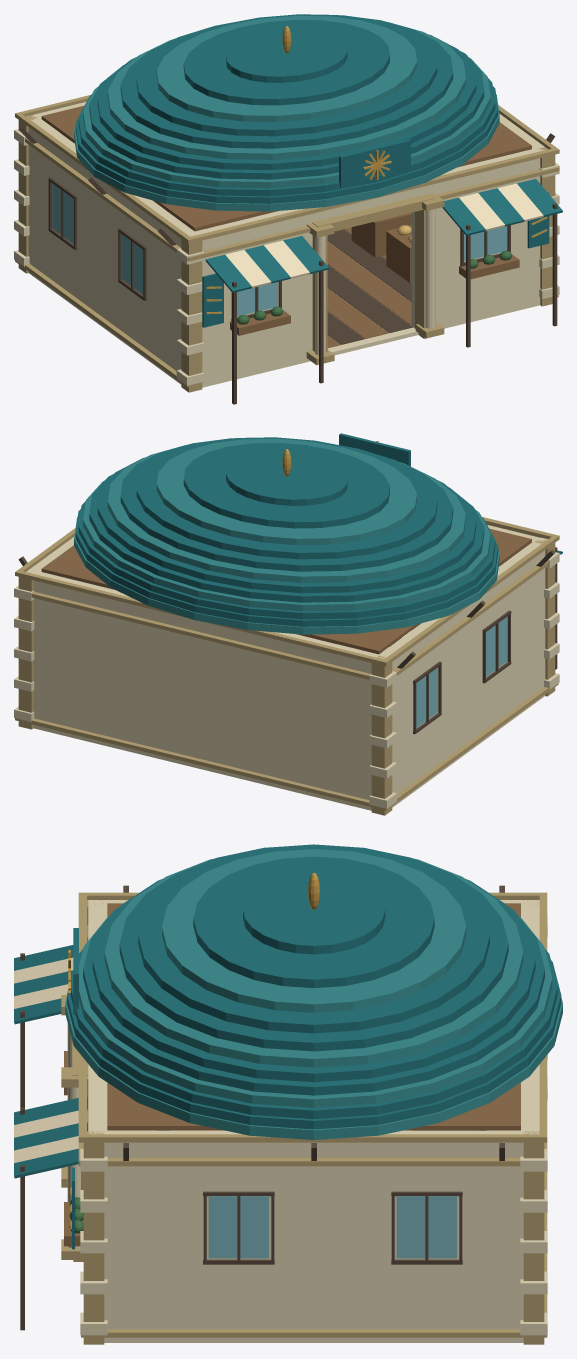
Rendered from Market.glb.
The picture shows the model from 3 angles, top to bottom: view 1: azimuth 30°, elevation 25°; view 2: azimuth 150°, elevation 25°; view 3: azimuth 270°, elevation 25°; orthographic projection. The views are drawn at different scales.
Visible parts, largest first — view 1: Market_002_Side, Market_040_FrontWing, Market_279_HarborDome, Market_003_FrontWing, Market_278_HarborDome, Market_277_HarborDome, Market_276_HarborDome, Market_275_HarborDome, Market_280_HarborDome, Market_274_HarborDome, Market_273_HarborDome, Market_272_HarborDome (+50 smaller); view 2: Market_001_Rear, Market_002_Side, Market_279_HarborDome, Market_278_HarborDome, Market_277_HarborDome, Market_276_HarborDome, Market_275_HarborDome, Market_274_HarborDome, Market_280_HarborDome, Market_273_HarborDome, Market_272_HarborDome, Market_271_HarborDome (+18 smaller); view 3: Market_039_Side, Market_279_HarborDome, Market_278_HarborDome, Market_277_HarborDome, Market_276_HarborDome, Market_275_HarborDome, Market_274_HarborDome, Market_280_HarborDome, Market_273_HarborDome, Market_272_HarborDome, Market_271_HarborDome, Market_270_HarborDome (+26 smaller).
Part boxes in pixels (x1=…): Market_002_Side: x1=29, y1=118, x2=196, y2=383; Market_040_FrontWing: x1=411, y1=149, x2=540, y2=328; Market_279_HarborDome: x1=183, y1=20, x2=389, y2=105; Market_003_FrontWing: x1=186, y1=209, x2=322, y2=387; Market_278_HarborDome: x1=156, y1=15, x2=416, y2=122; Market_277_HarborDome: x1=136, y1=14, x2=437, y2=136; Market_276_HarborDome: x1=120, y1=15, x2=453, y2=148; Market_275_HarborDome: x1=107, y1=22, x2=465, y2=159; Market_280_HarborDome: x1=226, y1=29, x2=347, y2=82; Market_274_HarborDome: x1=97, y1=34, x2=476, y2=170; Market_273_HarborDome: x1=89, y1=51, x2=484, y2=179; Market_272_HarborDome: x1=83, y1=58, x2=490, y2=188; Market_001_Rear: x1=26, y1=569, x2=386, y2=810; Market_002_Side: x1=376, y1=537, x2=547, y2=806; Market_279_HarborDome: x1=183, y1=443, x2=389, y2=528; Market_278_HarborDome: x1=156, y1=438, x2=416, y2=545; Market_277_HarborDome: x1=136, y1=437, x2=437, y2=559; Market_276_HarborDome: x1=120, y1=438, x2=453, y2=571; Market_275_HarborDome: x1=107, y1=445, x2=465, y2=582; Market_274_HarborDome: x1=97, y1=457, x2=476, y2=593; Market_280_HarborDome: x1=226, y1=453, x2=347, y2=505; Market_273_HarborDome: x1=89, y1=474, x2=484, y2=602; Market_272_HarborDome: x1=83, y1=481, x2=490, y2=611; Market_271_HarborDome: x1=78, y1=501, x2=495, y2=619; Market_039_Side: x1=88, y1=1130, x2=539, y2=1342; Market_279_HarborDome: x1=193, y1=856, x2=434, y2=988; Market_278_HarborDome: x1=162, y1=849, x2=466, y2=1012; Market_277_HarborDome: x1=138, y1=845, x2=489, y2=1033; Market_276_HarborDome: x1=119, y1=844, x2=508, y2=1051; Market_275_HarborDome: x1=104, y1=858, x2=523, y2=1067; Market_274_HarborDome: x1=92, y1=879, x2=535, y2=1082; Market_280_HarborDome: x1=243, y1=873, x2=385, y2=954; Market_273_HarborDome: x1=83, y1=906, x2=544, y2=1095; Market_272_HarborDome: x1=79, y1=916, x2=552, y2=1107; Market_271_HarborDome: x1=70, y1=949, x2=557, y2=1118; Market_270_HarborDome: x1=67, y1=960, x2=561, y2=1129.
Size of the model in its own units: 32.83 by 20.6 by 29.2.
